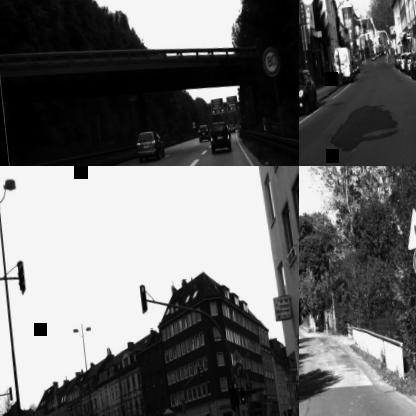bend left: (404, 205, 416, 249)
go right or straight: (233, 361, 244, 378)
priority road: (230, 348, 242, 364)
speed limit 30: (411, 246, 416, 279)
speed limit 80: (261, 46, 281, 76)
